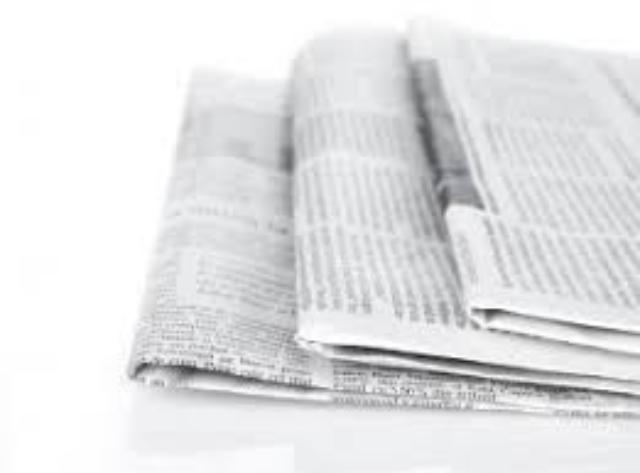cardboard paper: (128, 22, 635, 410)
